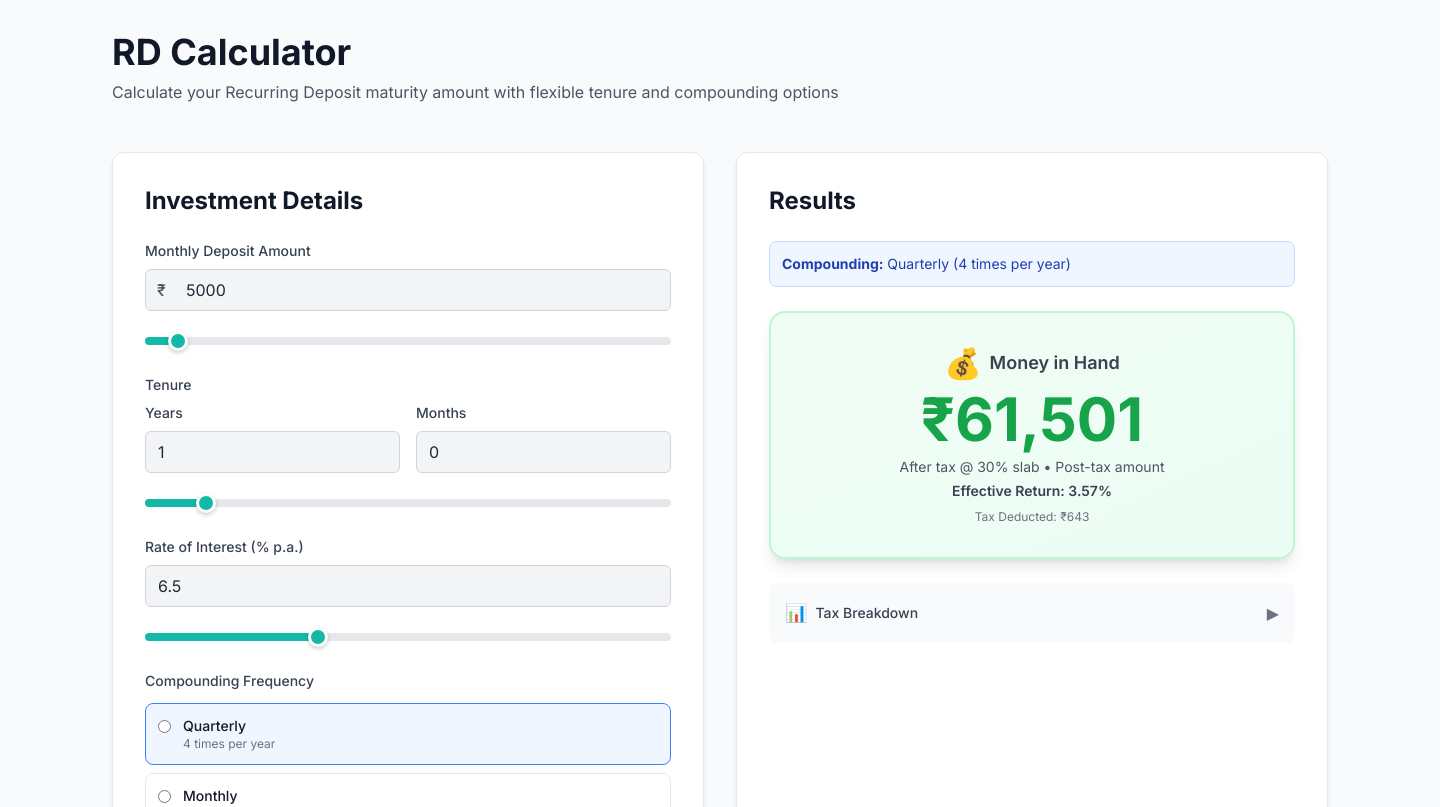
Test: RD Calculator › RD-11: Negative monthly deposit rejected › shows validation when deposit is negative
Type "-1000" into the number field below "Monthly Deposit Amount" at (408, 290), box [145,269,671,311]
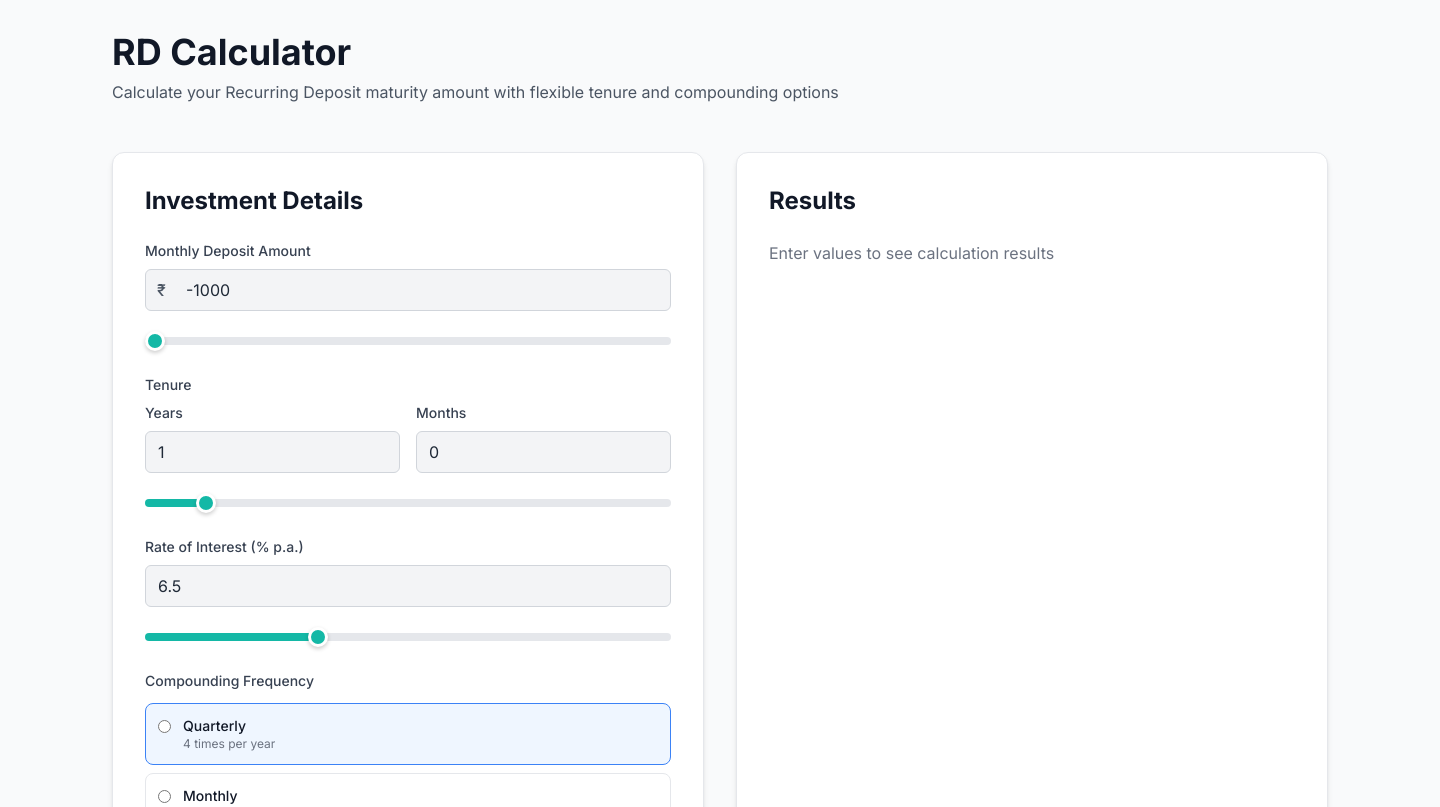
Leave the number field below "Monthly Deposit Amount", box [145,269,671,311]
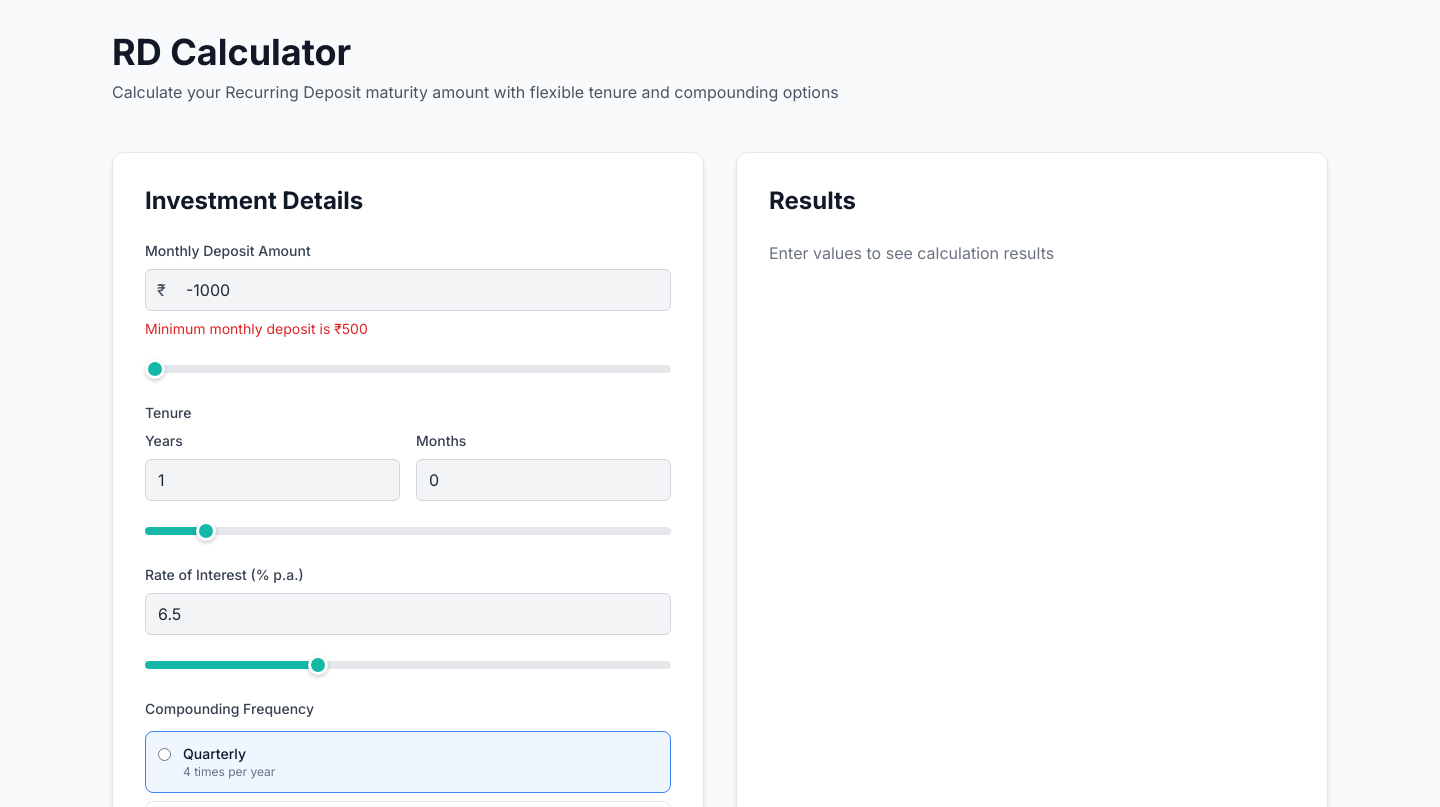
Now the text "Minimum monthly deposit is ₹500" is shown, box [145,320,368,337]
